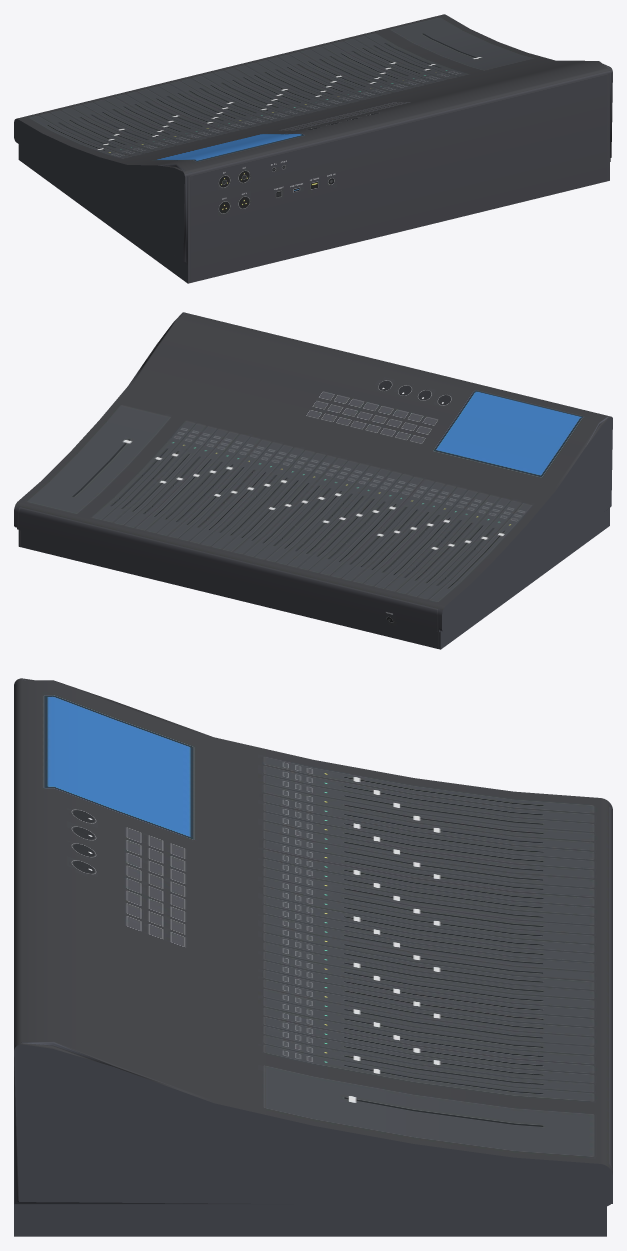
Rendered from yamaha-tf5.glb.
3 renders of one model, top to bottom at view 1: azimuth 30°, elevation 25°; view 2: azimuth 150°, elevation 25°; view 3: azimuth 270°, elevation 25°, orthographic. The views are drawn at different scales.
Parts seen in each view (by area): view 1: yamaha-tf5-body; view 2: yamaha-tf5-body; view 3: yamaha-tf5-body.
Boxes of the visible parts, x1=… form: yamaha-tf5-body: x1=14, y1=14, x2=612, y2=283; yamaha-tf5-body: x1=14, y1=312, x2=612, y2=649; yamaha-tf5-body: x1=14, y1=678, x2=612, y2=1236.
Bounding box in the file's own units: 0.866 × 0.225 × 0.599.
1 material, 1 textured.
